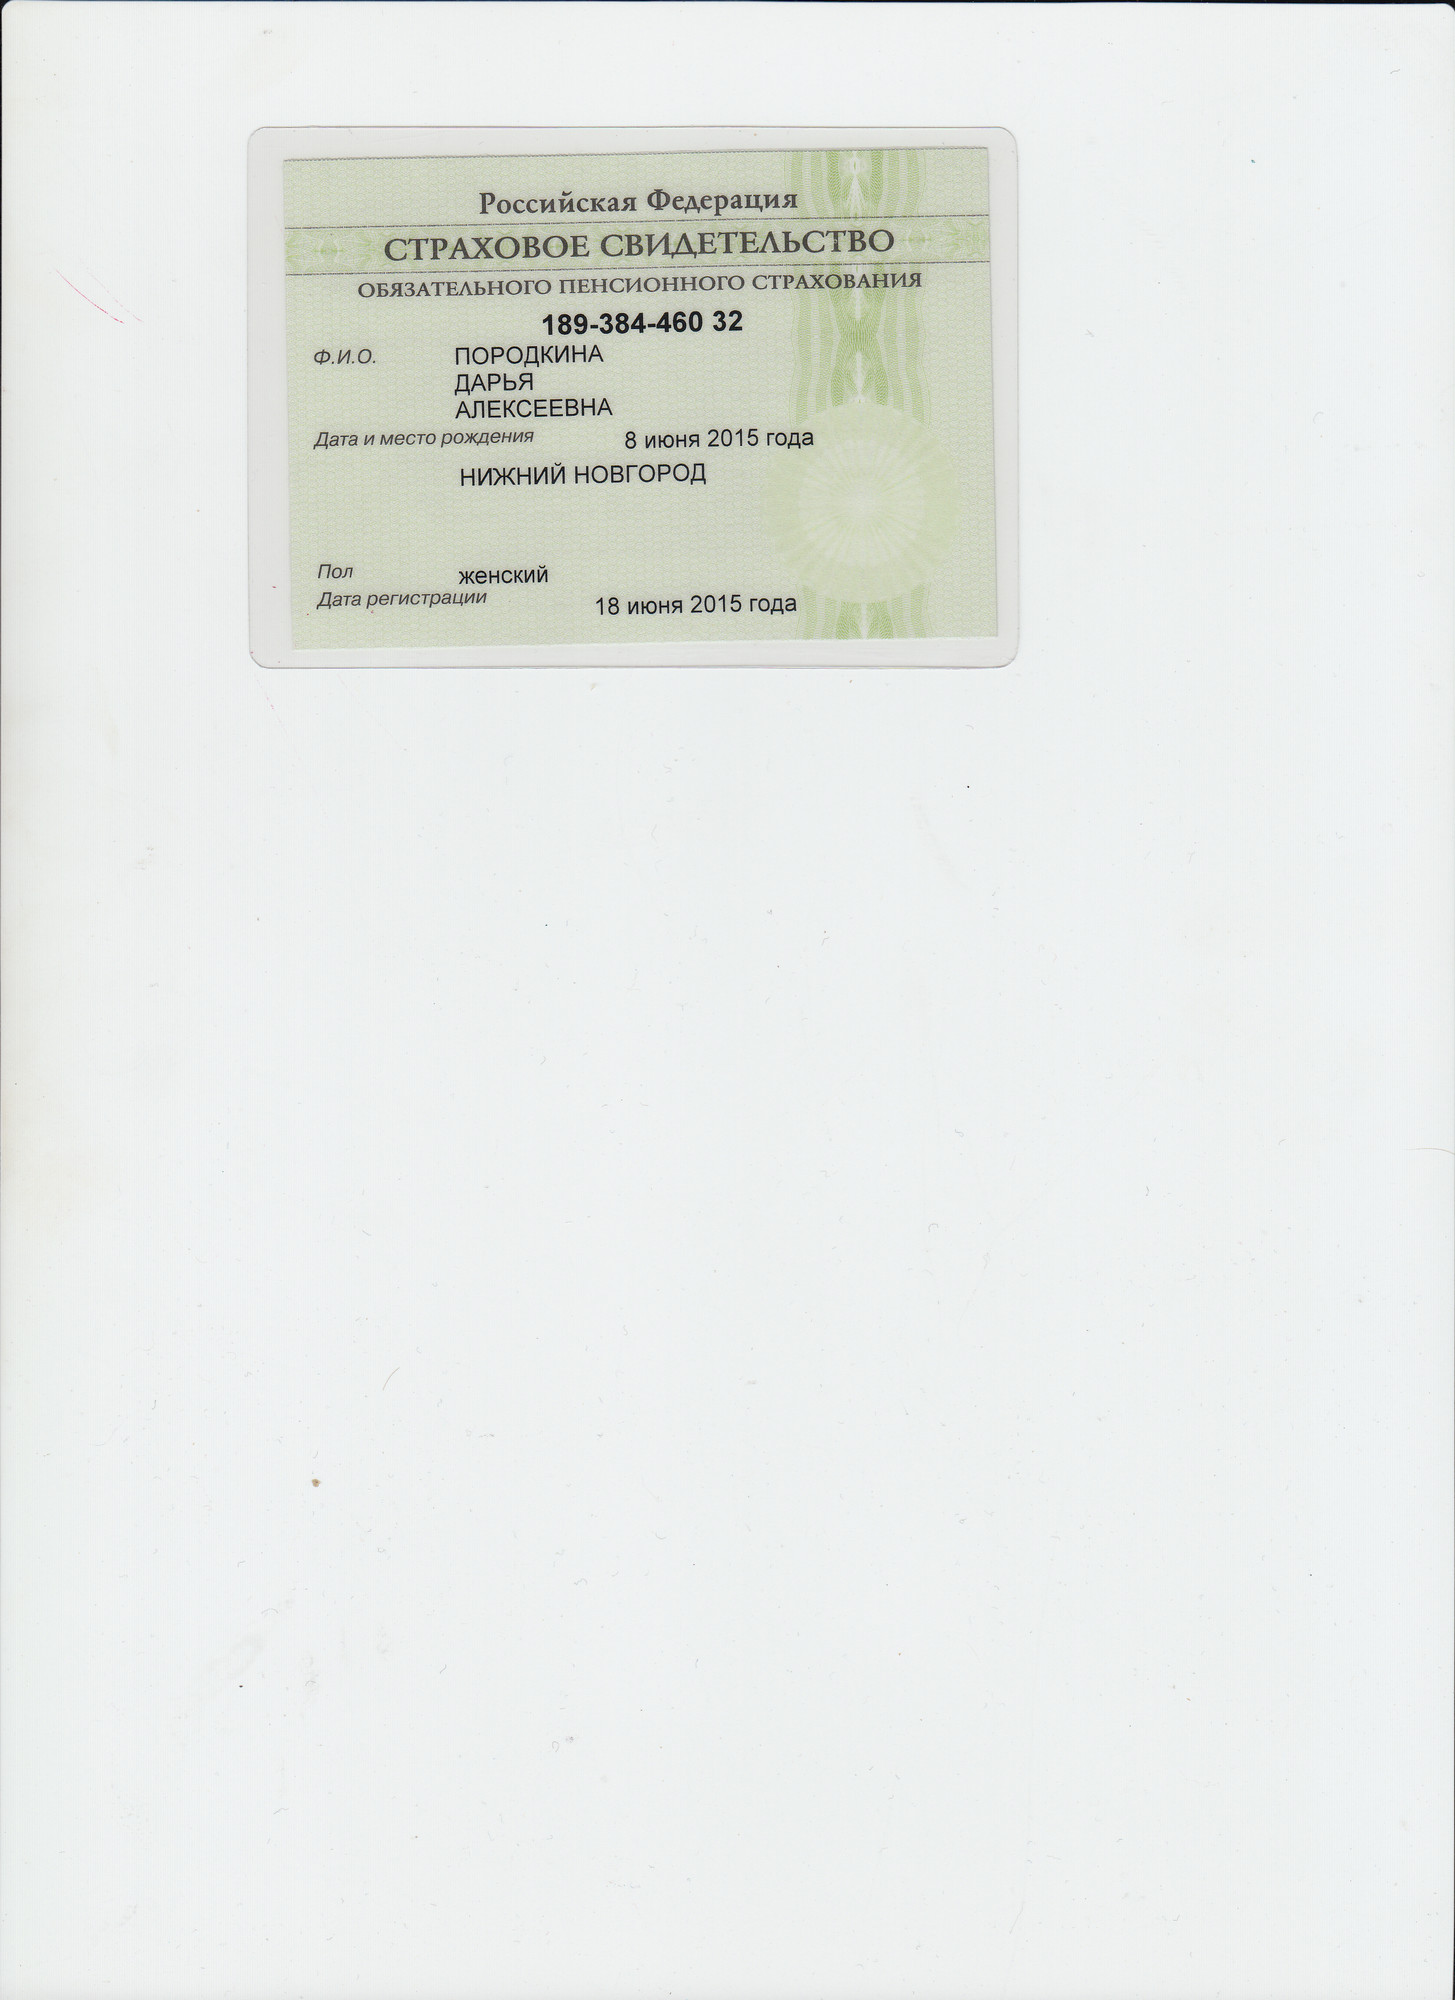text: (450, 453, 713, 492), (537, 303, 748, 335), (616, 429, 828, 460), (450, 339, 610, 376), (450, 391, 624, 422), (589, 592, 801, 616), (453, 366, 533, 394), (447, 565, 554, 585)
